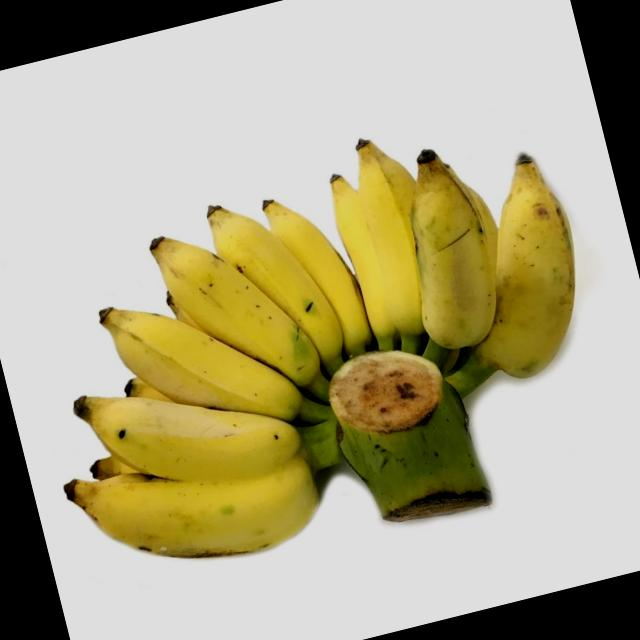chuoi: (150, 237, 327, 400), (74, 450, 318, 557), (100, 308, 314, 421), (207, 205, 342, 376), (472, 154, 575, 377), (330, 139, 427, 352), (74, 396, 300, 482), (262, 199, 374, 357), (411, 149, 496, 349), (329, 173, 400, 349)
